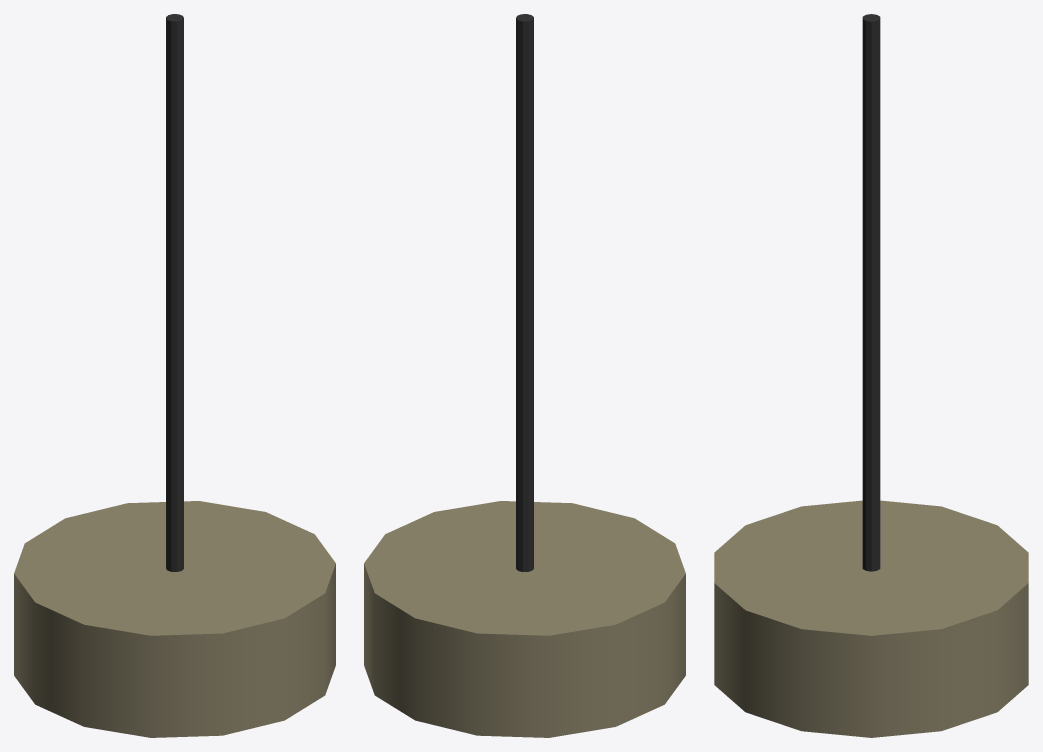
The model's file is Mannequin_Support.fbx.
3 views of the same model, side by side, from view 1: azimuth 30°, elevation 25°; view 2: azimuth 150°, elevation 25°; view 3: azimuth 270°, elevation 25° (orthographic).
Parts seen in each view (by area): view 1: Mannequin_Support; view 2: Mannequin_Support; view 3: Mannequin_Support.
Part boxes in pixels (bbox=[...]): Mannequin_Support: bbox=[14, 14, 335, 737]; Mannequin_Support: bbox=[364, 14, 685, 737]; Mannequin_Support: bbox=[714, 14, 1028, 737].
Size of the model in its own units: 4.17 by 9.31 by 4.07.
